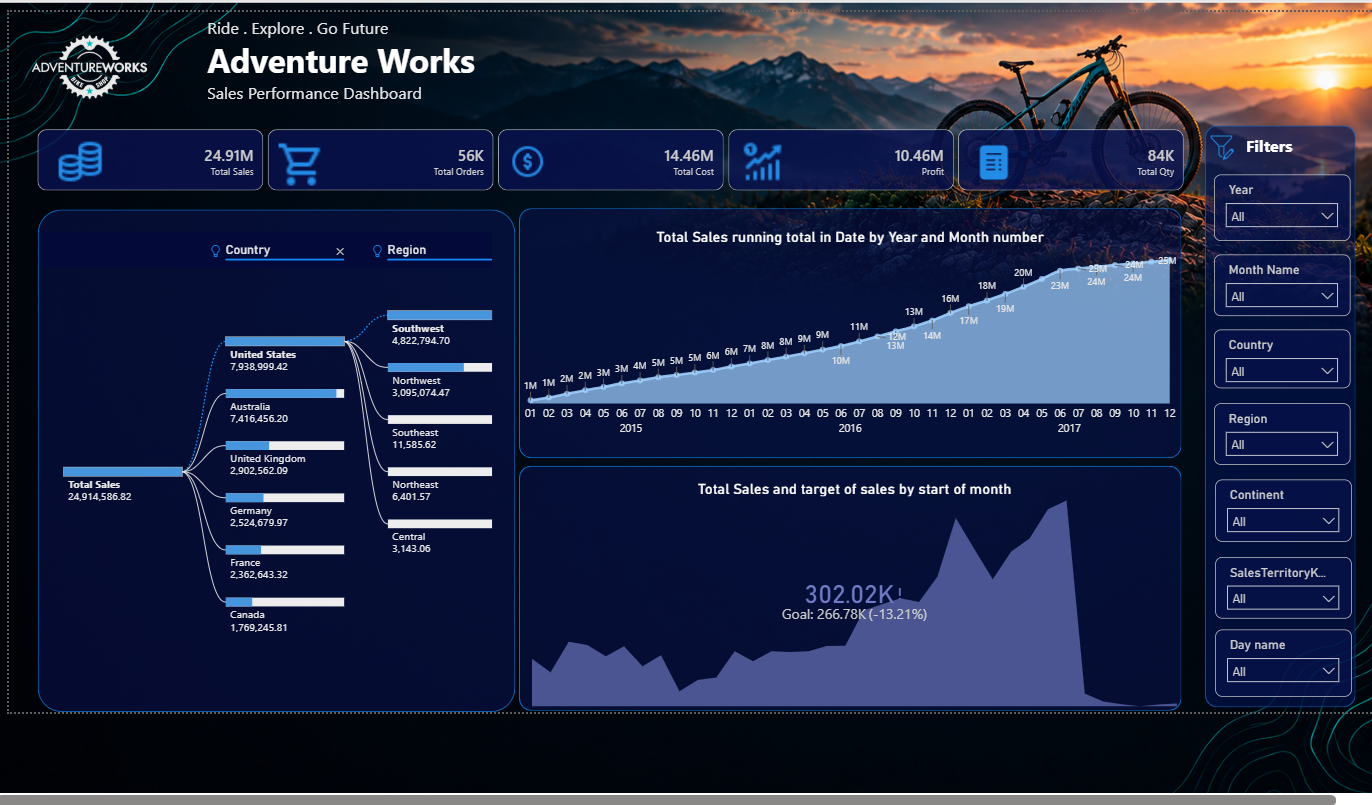

The page's visual inventory and layout, read from the dashboard file:
{"tool":"powerbi","page":{"name":"Overview","canvas":[1600,800],"ordinal":1},"visuals":[{"type":"shape","box":[1362.9,125.7,180,672.9],"z":1000},{"type":"slicer","fields":{"Values":["Territories.Continent"]},"box":[1378.6,534.3,155.7,71.4],"z":2000},{"type":"slicer","fields":{"Values":["Territories.Country"]},"box":[1377.1,362.9,155.7,67.1],"z":3000},{"type":"slicer","fields":{"Values":["Territories.Region"]},"box":[1377.1,447.1,155.7,70],"z":4000},{"type":"slicer","fields":{"Values":["Territories.SalesTerritoryKey"]},"box":[1378.6,622.9,155.7,70],"z":5000},{"type":"slicer","fields":{"Values":["Calender Table.Year"]},"box":[1377.1,185.7,155.7,75.7],"z":6000},{"type":"slicer","fields":{"Values":["Calender Table.Day name"]},"box":[1378.6,705.7,155.7,77.1],"z":7000},{"type":"slicer","fields":{"Values":["Calender Table.Month Name"]},"box":[1377.1,277.1,155.7,70],"z":8000},{"type":"shape","box":[32.9,225.7,545.7,574.3],"z":9000},{"type":"shape","box":[582.9,224.3,757.1,285.7],"z":11000},{"type":"shape","box":[582.9,518.6,757.1,280],"z":12000},{"type":"cardVisual","fields":{"Data":["Sales.Total Sales","Sales.Total Orders","Sales.Total Cost","Sales.Profit","Sales.Total Qty"]},"box":[15.7,117.1,1347.1,104.3],"z":13000},{"type":"image","box":[15.7,0,152.9,125.7],"z":14000},{"type":"image","box":[48.6,135.7,65.7,70],"z":15000},{"type":"image","box":[305.7,141.4,57.1,65.7],"z":16000},{"type":"image","box":[567.1,135.7,51.4,70],"z":17000},{"type":"image","box":[835.7,135.7,51.4,70],"z":18000},{"type":"image","box":[1097.1,137.1,57.1,70],"z":19000},{"type":"textbox","box":[1408.6,135.7,102.9,40],"z":25000},{"type":"image","box":[1362.9,140,45.7,28.6],"z":26000},{"type":"textbox","box":[221.4,0,357.1,125.7],"z":27000},{"type":"decompositionTreeVisual","fields":{"Analyze":["Sales.Total Sales"],"ExplainBy":["Territories.Country","Territories.Region"]},"box":[32.9,247.1,524.3,551.4],"z":27001},{"type":"lineChart","fields":{"Category":["Calender Table.Year","Calender Table.Month number"],"Y":["Sales.Total Sales running total in Date"]},"box":[582.9,247.1,757.1,251.4],"z":27002},{"type":"kpi","fields":{"Indicator":["Sales.Total Sales"],"TrendLine":["Calender Table.start of month"],"Goal":["Sales.target of sales"]},"box":[592.9,534.3,747.1,264.3],"z":27003}]}

Visuals, with their boxes on the page's 1600x800 design canvas (x1, y1, x2, y2). These are canvas units, not pixel positions in the 1372x805 screenshot, which may show the page scaled, cropped or inside an application window:
shape: <region>1363, 126, 1543, 799</region>
slicer - Territories.Continent: <region>1379, 534, 1534, 606</region>
slicer - Territories.Country: <region>1377, 363, 1533, 430</region>
slicer - Territories.Region: <region>1377, 447, 1533, 517</region>
slicer - Territories.SalesTerritoryKey: <region>1379, 623, 1534, 693</region>
slicer - Calender Table.Year: <region>1377, 186, 1533, 261</region>
slicer - Calender Table.Day name: <region>1379, 706, 1534, 783</region>
slicer - Calender Table.Month Name: <region>1377, 277, 1533, 347</region>
shape: <region>33, 226, 579, 800</region>
shape: <region>583, 224, 1340, 510</region>
shape: <region>583, 519, 1340, 799</region>
cardVisual - Sales.Total Sales x Sales.Total Orders: <region>16, 117, 1363, 221</region>
image: <region>16, 0, 169, 126</region>
image: <region>49, 136, 114, 206</region>
image: <region>306, 141, 363, 207</region>
image: <region>567, 136, 618, 206</region>
image: <region>836, 136, 887, 206</region>
image: <region>1097, 137, 1154, 207</region>
textbox: <region>1409, 136, 1512, 176</region>
image: <region>1363, 140, 1409, 169</region>
textbox: <region>221, 0, 578, 126</region>
decompositionTreeVisual - Sales.Total Sales x Territories.Country: <region>33, 247, 557, 798</region>
lineChart - Calender Table.Year x Calender Table.Month number: <region>583, 247, 1340, 498</region>
kpi - Sales.Total Sales x Calender Table.start of month: <region>593, 534, 1340, 799</region>
